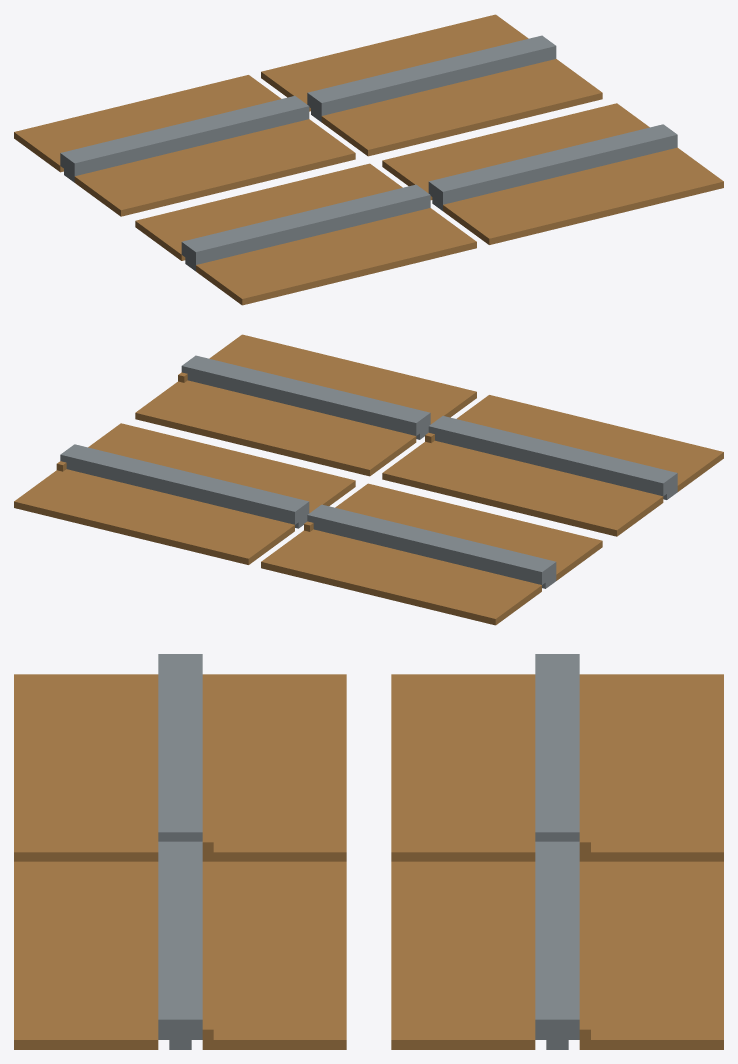
The model's file is hinge_set.glb.
The picture shows the model from 3 angles, top to bottom: view 1: azimuth 30°, elevation 25°; view 2: azimuth 150°, elevation 25°; view 3: azimuth 270°, elevation 25°; orthographic projection. The views are drawn at different scales.
Visible parts, largest first — view 1: hinge_set:compound; view 2: hinge_set:compound; view 3: hinge_set:compound.
Part boxes in pixels (x1,y1,x2,y2): hinge_set:compound: (14,14,723,305); hinge_set:compound: (14,334,723,625); hinge_set:compound: (14,654,723,1049).
Size of the model in its own units: 0.156 by 0.006 by 0.128.
